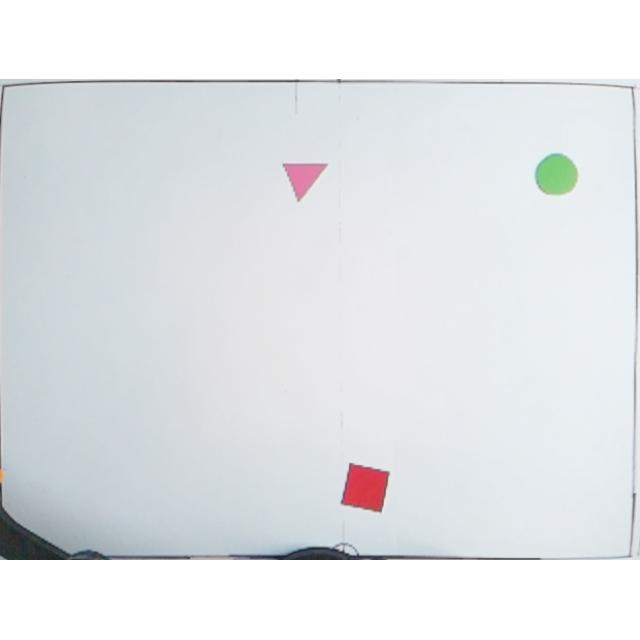greenCircle: (532, 152, 580, 200)
pinkTriangle: (280, 158, 330, 208)
redSquare: (338, 460, 392, 518)
